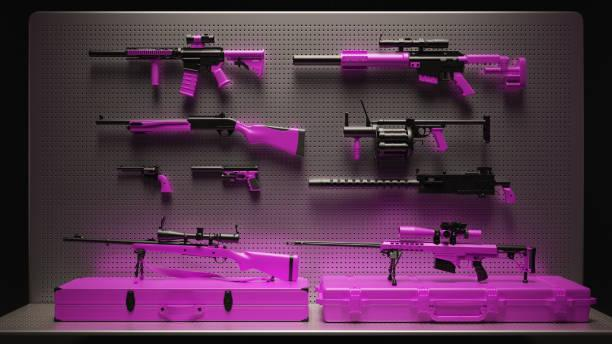weapon: (289, 31, 531, 101), (286, 219, 538, 284), (61, 216, 302, 282), (84, 31, 268, 101), (93, 109, 308, 159), (338, 106, 494, 163), (307, 164, 517, 205), (190, 162, 264, 193), (115, 162, 175, 196)
